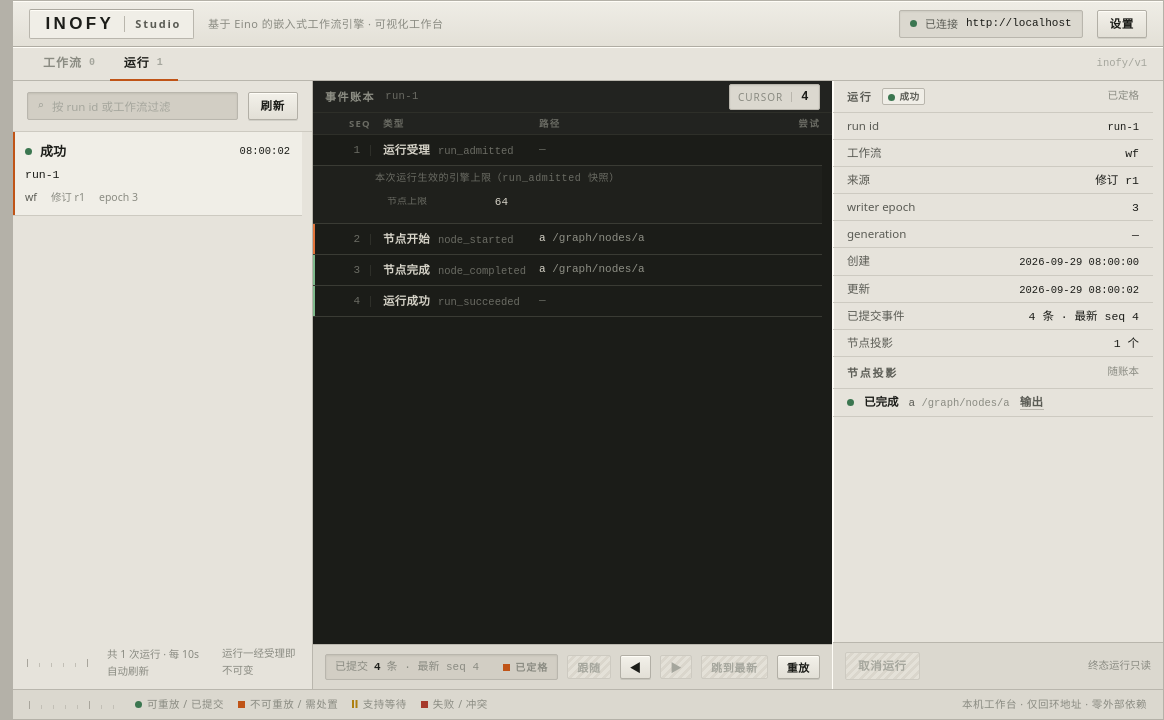
Test: 运行中心 › 节点输出按路径单独取，不来自事件
Expected: the element with class "drow" shows "/graph/nodes/a", [921, 397, 1010, 409]
Step 1. Click the button "输出" → (1032, 402), box [1020, 394, 1044, 410]
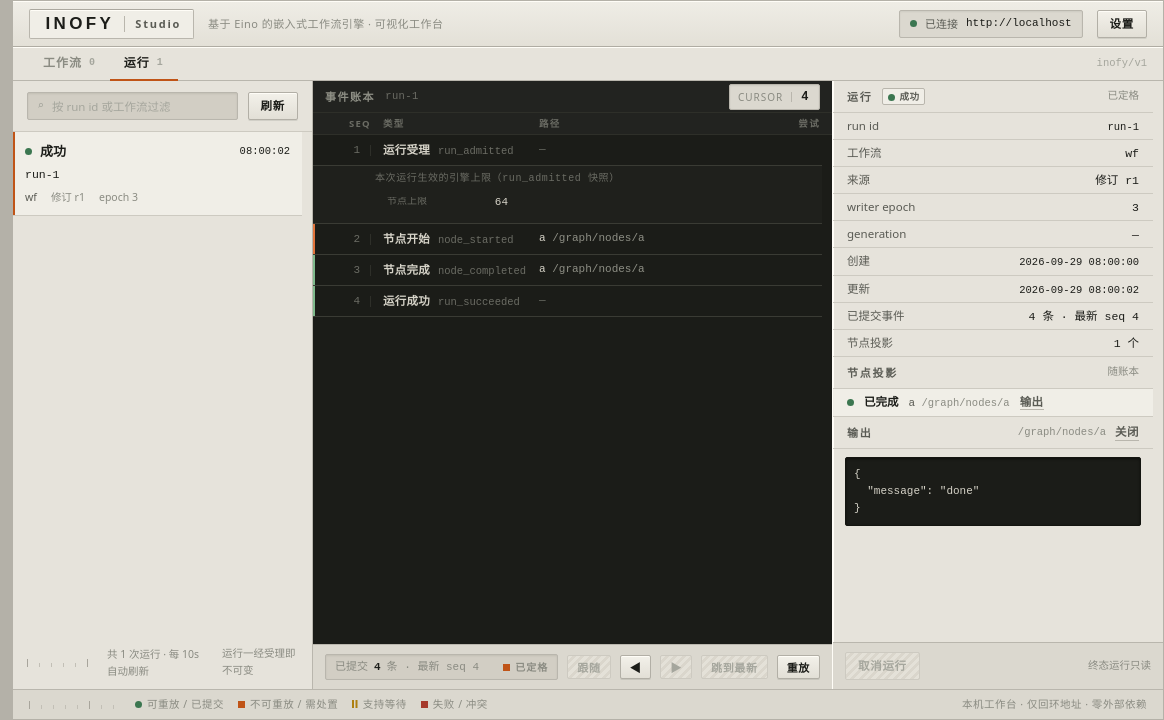
Now the text "{ \"message\": \"done\" }" is shown, box [845, 457, 1141, 526]
